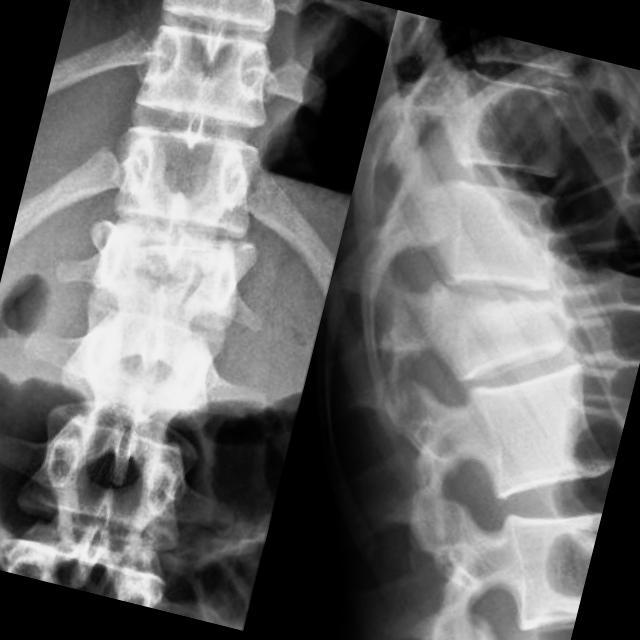Compression-Crush Fracutre: (399, 271, 580, 374), (75, 242, 248, 333)
